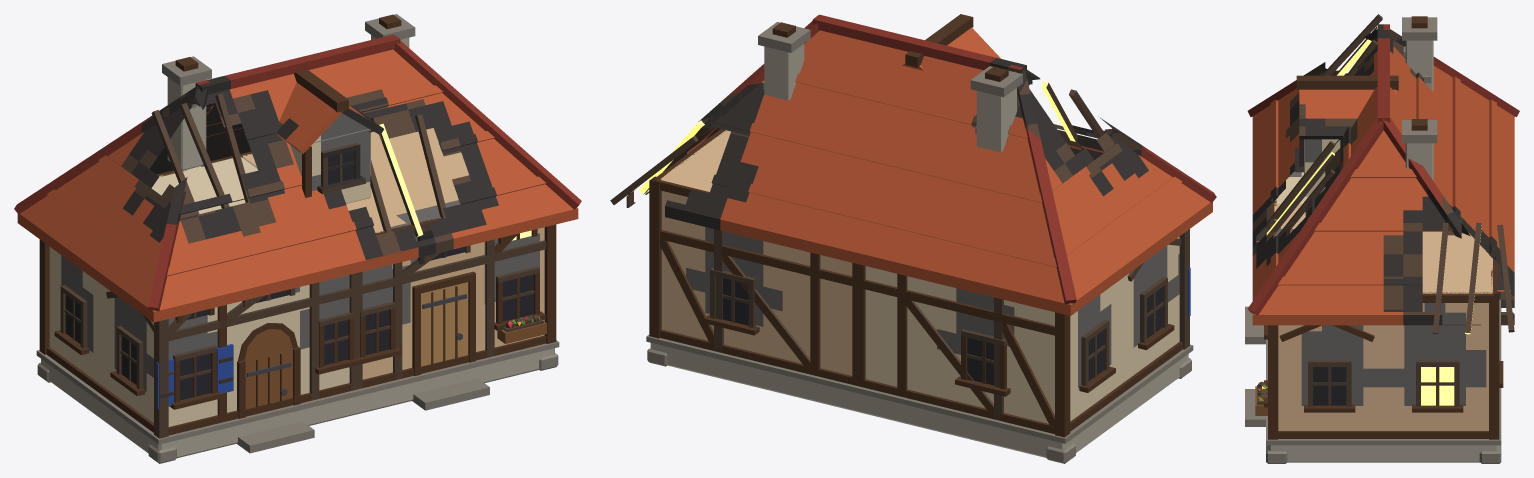
Rendered from Haus_Lang_Beschaedigt.fbx.
3 renders of one model, left to right at view 1: azimuth 30°, elevation 25°; view 2: azimuth 150°, elevation 25°; view 3: azimuth 270°, elevation 25°, orthographic. The views are drawn at different scales.
Visible parts, largest first — view 1: Haus_Lang_Beschaedigt; view 2: Haus_Lang_Beschaedigt; view 3: Haus_Lang_Beschaedigt.
Boxes of the visible parts, bbox=[...] form: Haus_Lang_Beschaedigt: bbox=[14, 14, 581, 463]; Haus_Lang_Beschaedigt: bbox=[610, 14, 1216, 463]; Haus_Lang_Beschaedigt: bbox=[1245, 14, 1519, 463].
Size of the model in its own units: 9.65 by 6.6 by 5.35.
